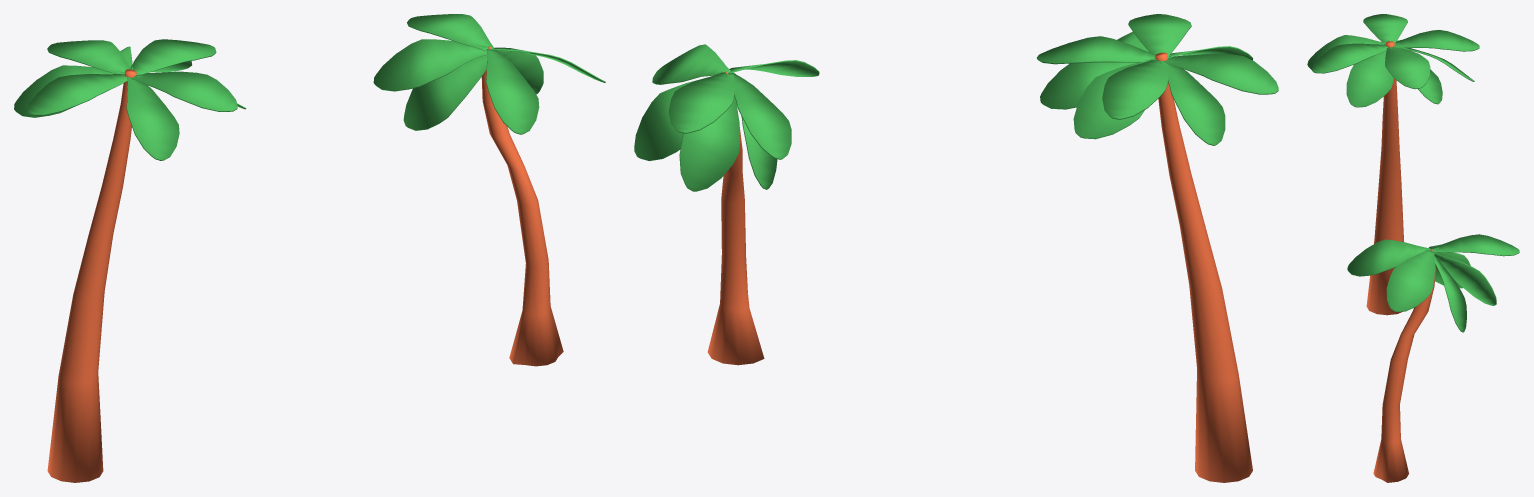
Rendered from trees.fbx.
3 views of the same model, side by side, from view 1: azimuth 30°, elevation 25°; view 2: azimuth 150°, elevation 25°; view 3: azimuth 270°, elevation 25° (orthographic). The views are drawn at different scales.
Parts seen in each view (by area): view 1: longpalm_lv4, shortpalm_lv4; view 2: longpalm_lv4, shortpalm_lv4; view 3: longpalm_lv4, shortpalm_lv4.
Boxes of the visible parts, x1,y1,x2,y2 form: longpalm_lv4: [14, 39, 246, 482]; shortpalm_lv4: [373, 14, 605, 366]; longpalm_lv4: [1037, 14, 1278, 482]; shortpalm_lv4: [634, 44, 819, 365]; longpalm_lv4: [1307, 14, 1479, 315]; shortpalm_lv4: [1347, 234, 1519, 482].
Bounding box in the file's own units: 1444 × 911 × 616.
